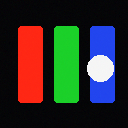2 circle: (87, 55, 113, 81)
